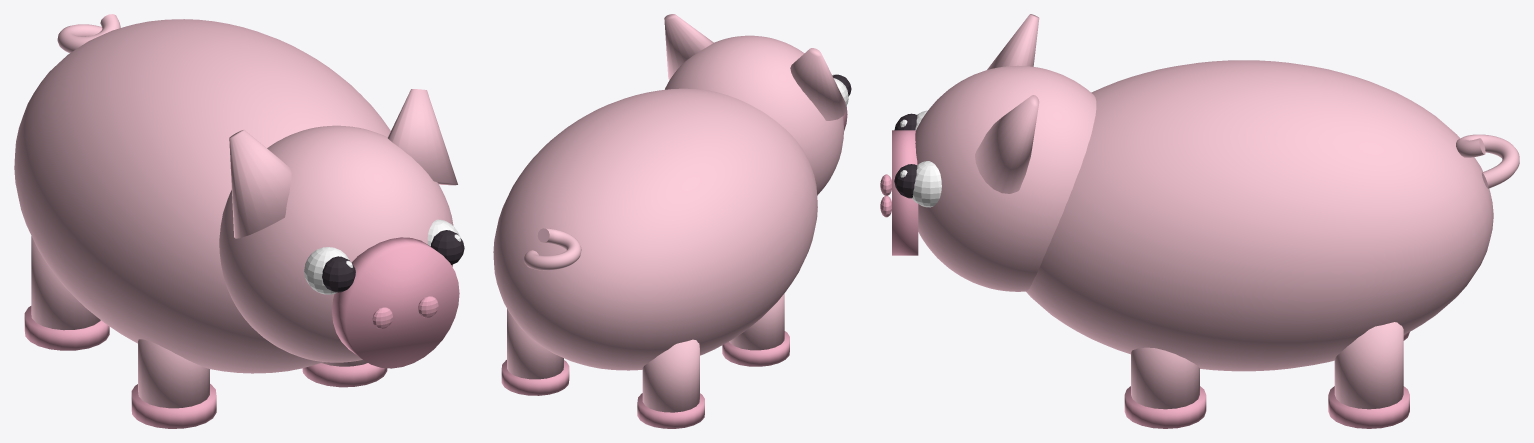
Rendered from pork.glb.
3 views of the same model, side by side, from view 1: azimuth 30°, elevation 25°; view 2: azimuth 150°, elevation 25°; view 3: azimuth 270°, elevation 25° (orthographic). The views are drawn at different scales.
Parts seen in each view (by area): view 1: PiggyBank_Body, Pig_Sclera_L, Pig_Iris_L, Pig_Iris_R; view 2: PiggyBank_Body; view 3: PiggyBank_Body, Pig_Sclera_R.
Boxes of the visible parts, box(x1,y1,x2,y2) form: PiggyBank_Body: box(14, 14, 459, 428); Pig_Sclera_L: box(304, 247, 349, 294); Pig_Iris_L: box(322, 256, 355, 292); Pig_Iris_R: box(430, 230, 464, 264); PiggyBank_Body: box(493, 14, 847, 428); PiggyBank_Body: box(892, 14, 1519, 428); Pig_Sclera_R: box(912, 161, 941, 207).
Size of the model in its own units: 0.11 by 0.1114 by 0.2041.
